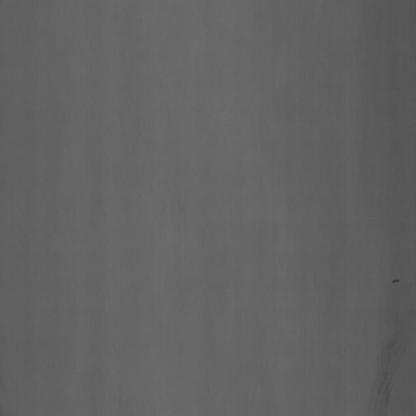inclusion: (388, 267, 406, 294)
water_spot: (362, 314, 403, 409)
